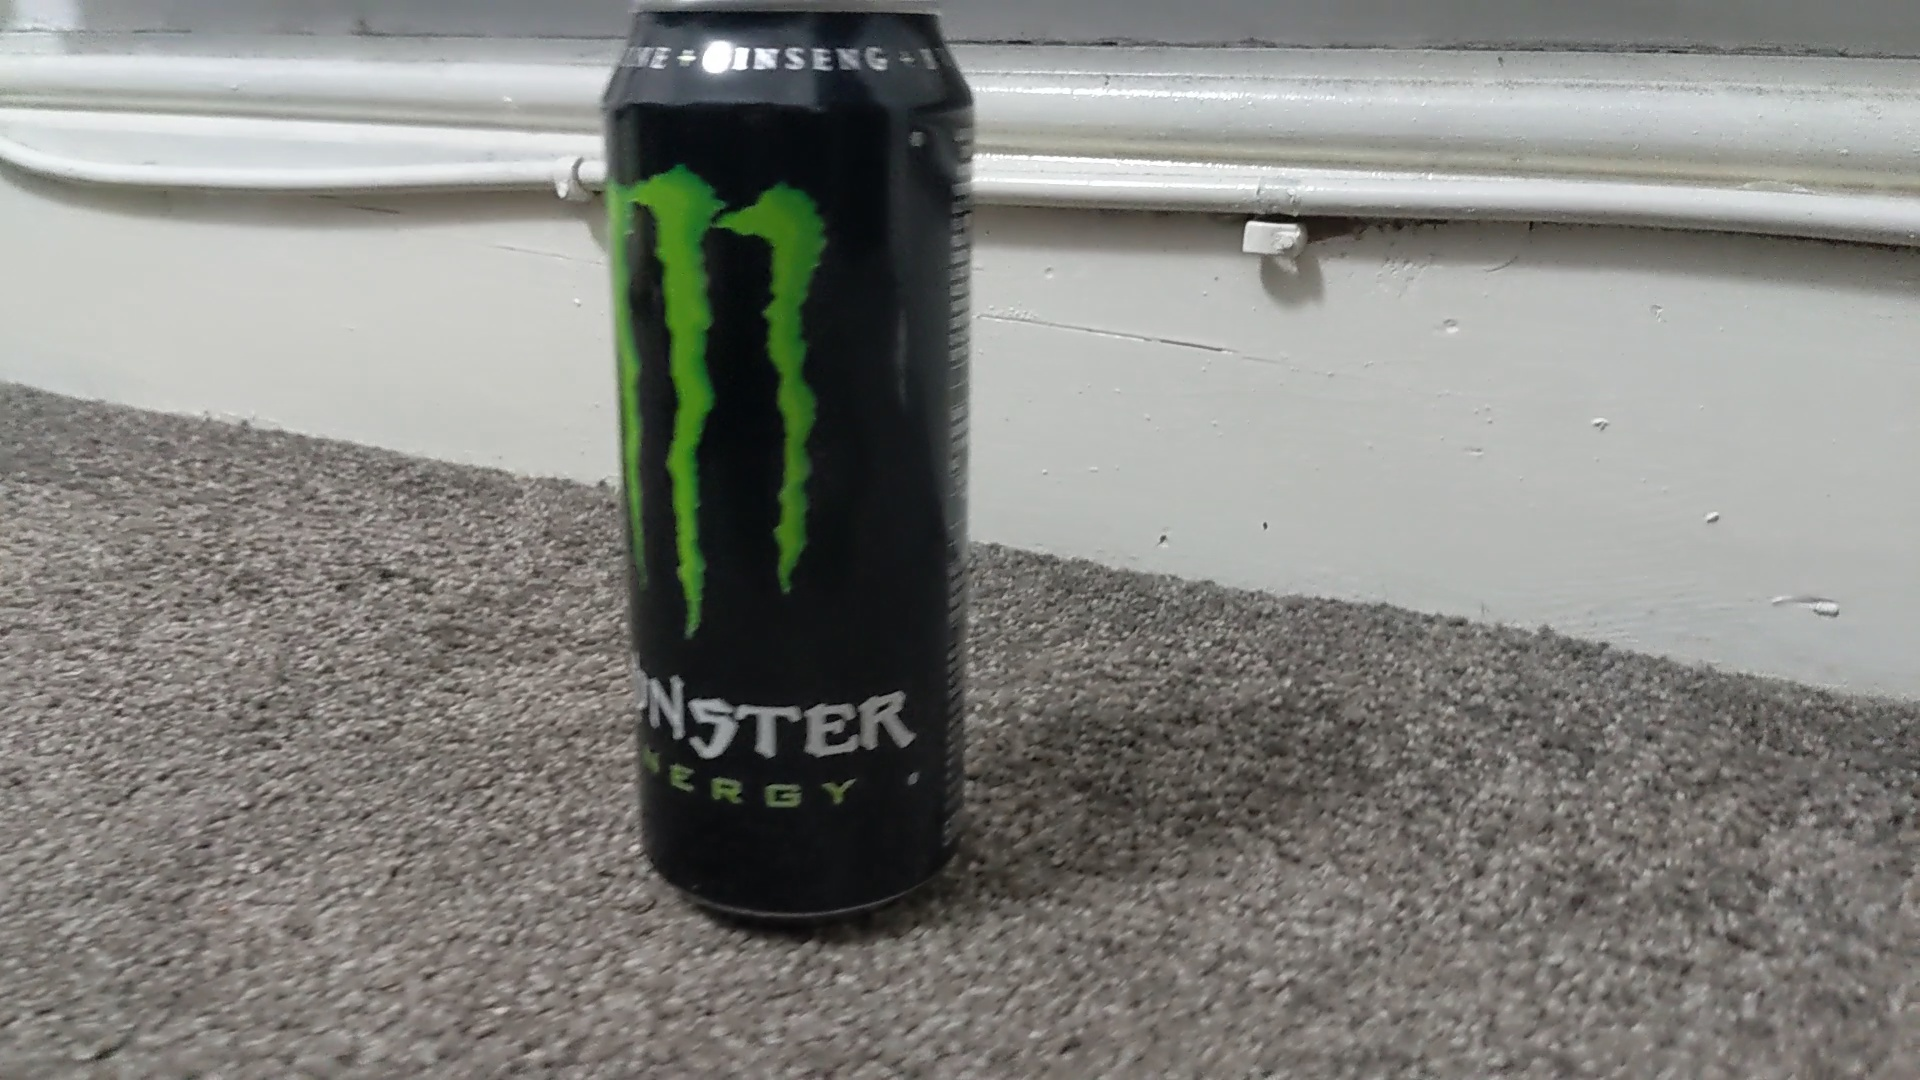monster-original: (603, 4, 975, 920)
